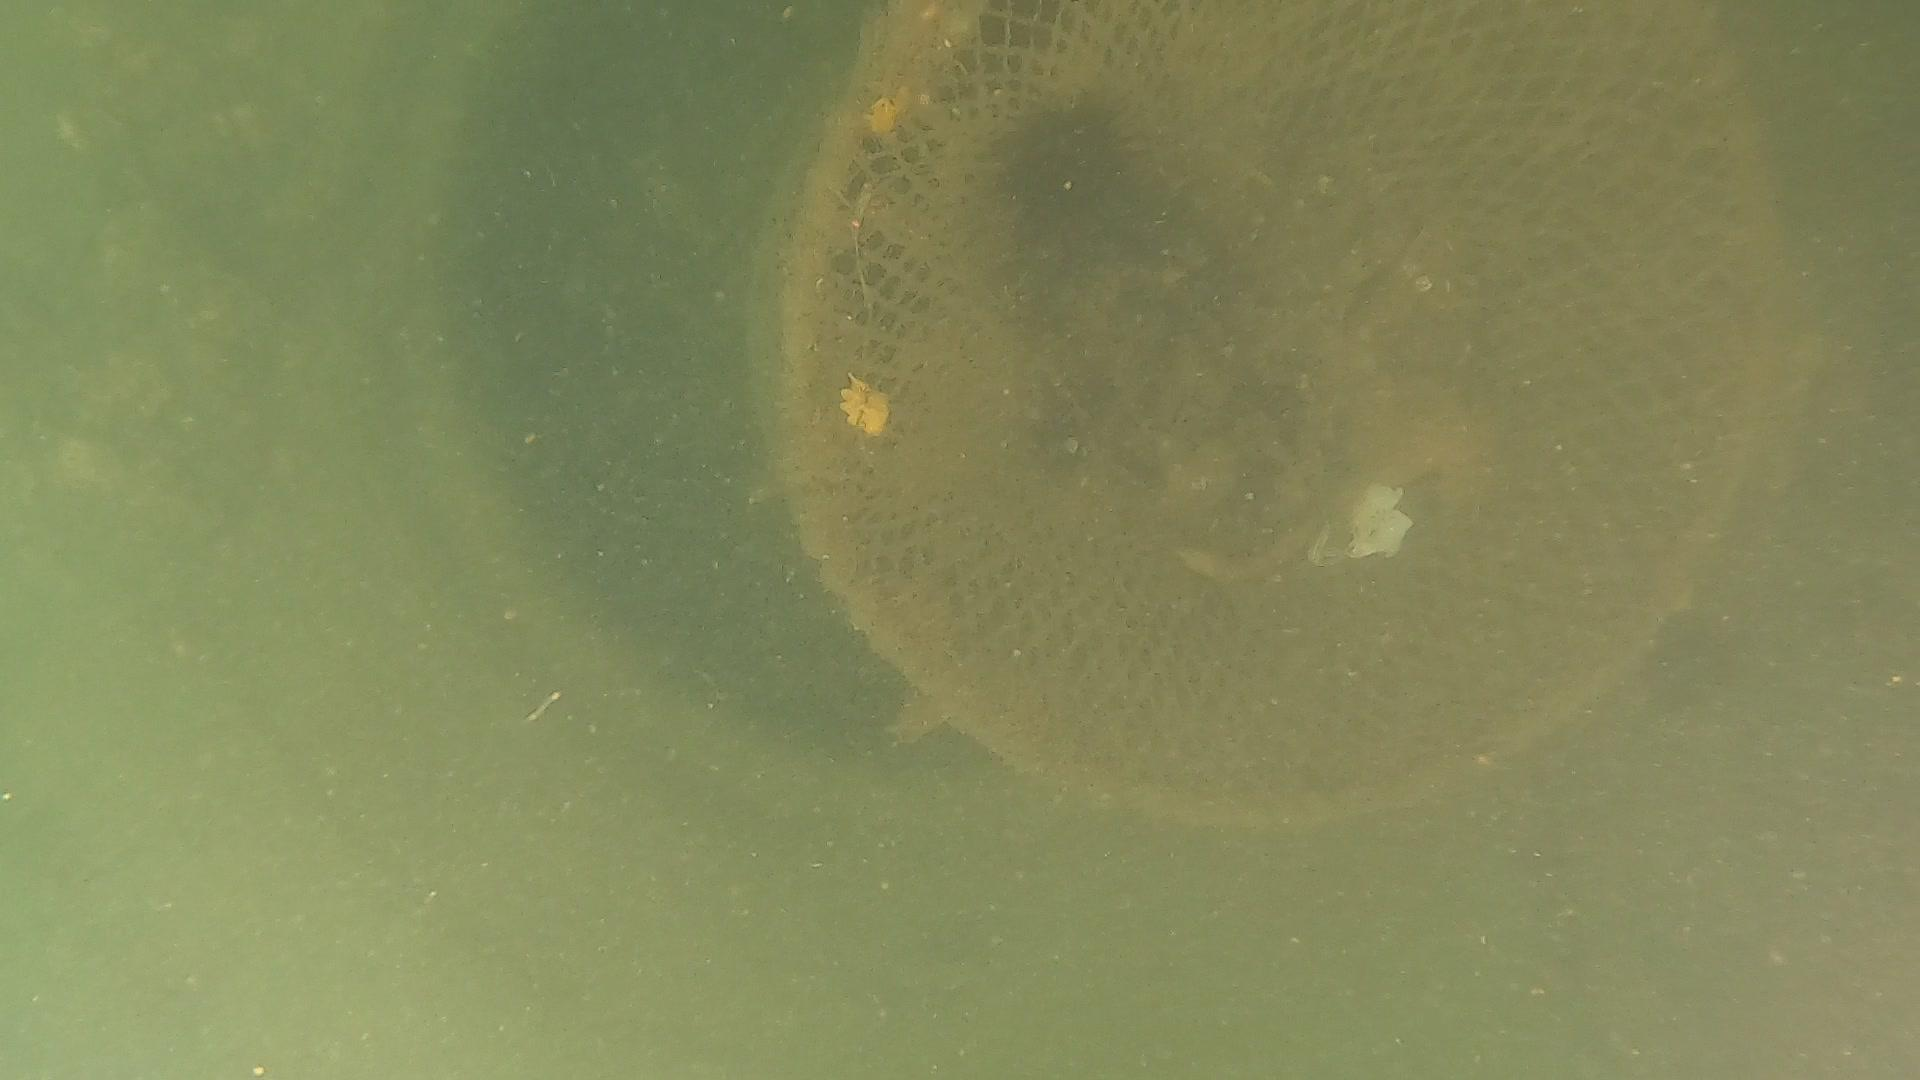circular fish trap: (744, 3, 1784, 824)
tire: (0, 0, 1920, 1080)
